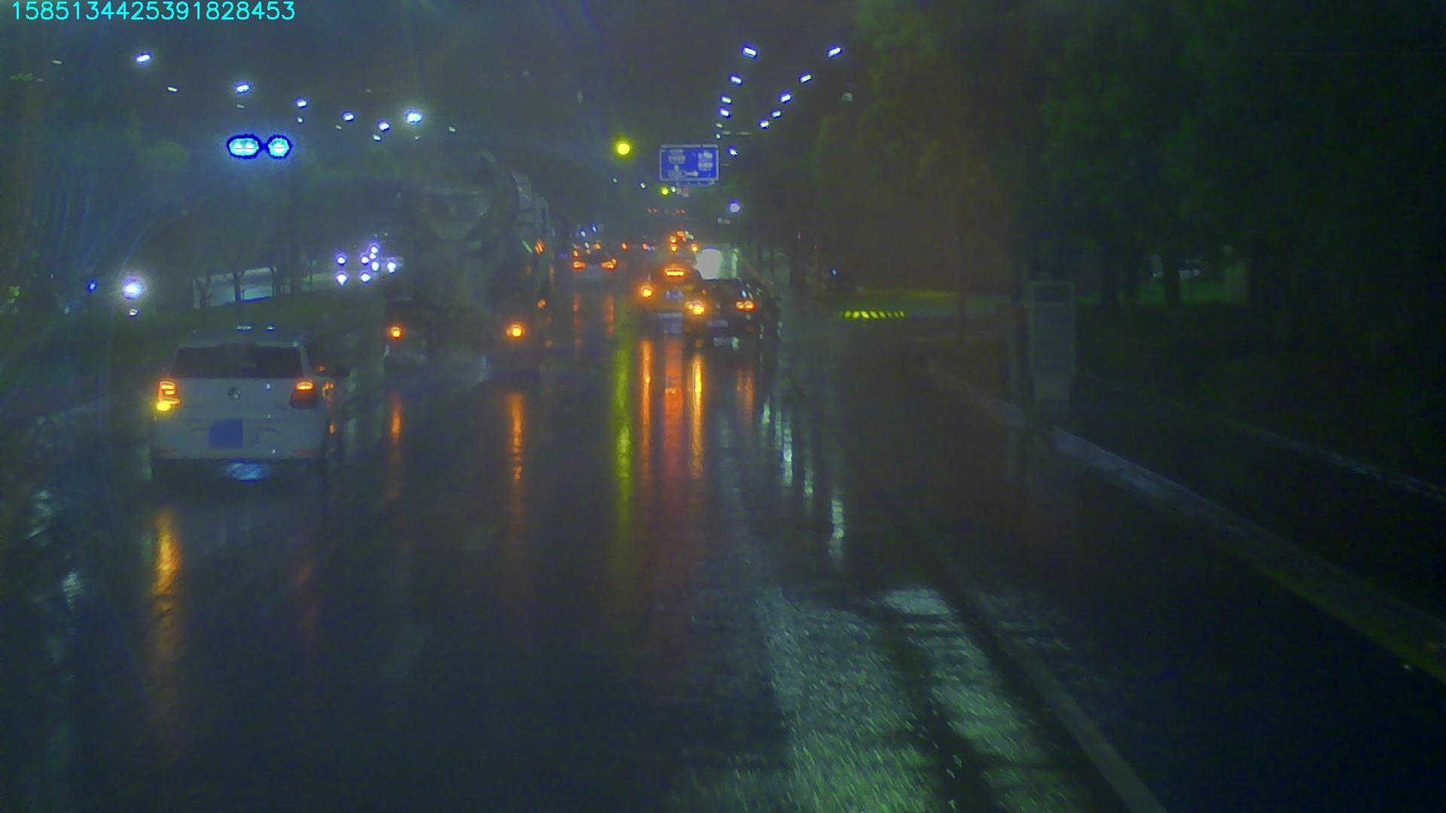yellow: (609, 139, 633, 162)
